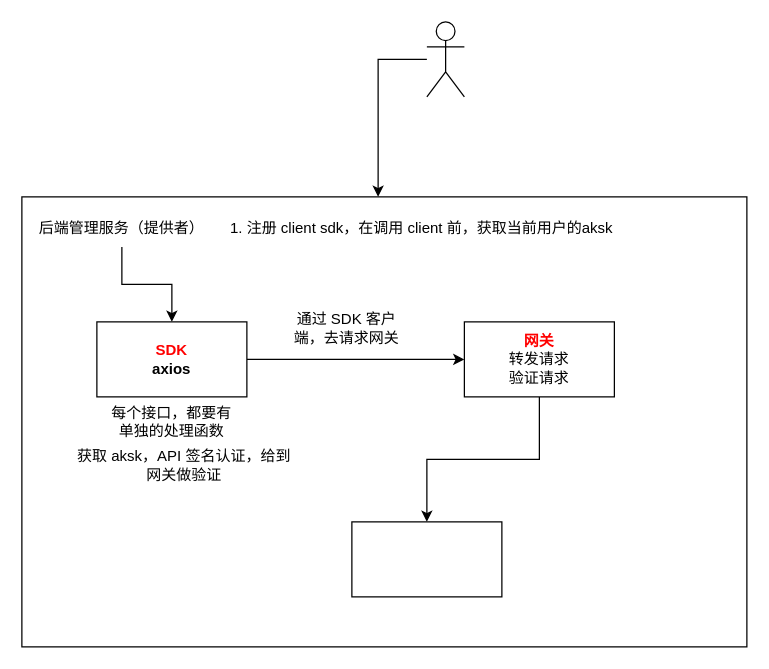
This 769x669 diagram has some shape labels left out. Here are the shapes that lost their labels. From the top down, the box of each, then its label:
(426, 21, 464, 97): 用户调用 invoke
(351, 521, 502, 597): 接口
